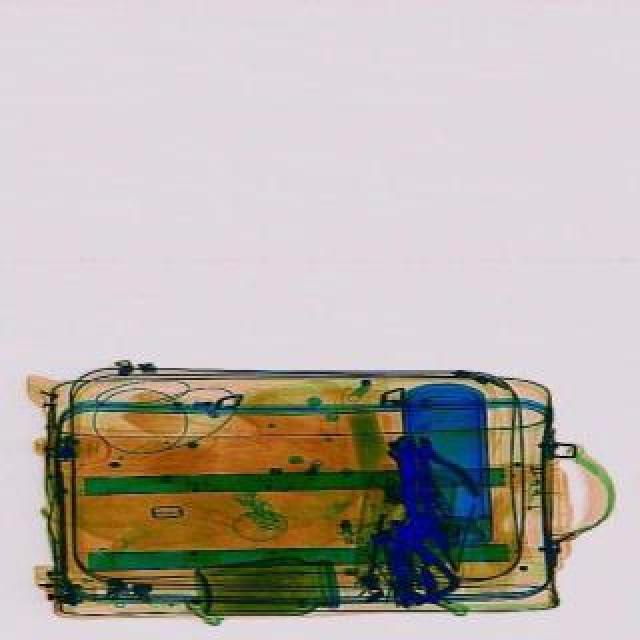wrench: (392, 426, 488, 526)
